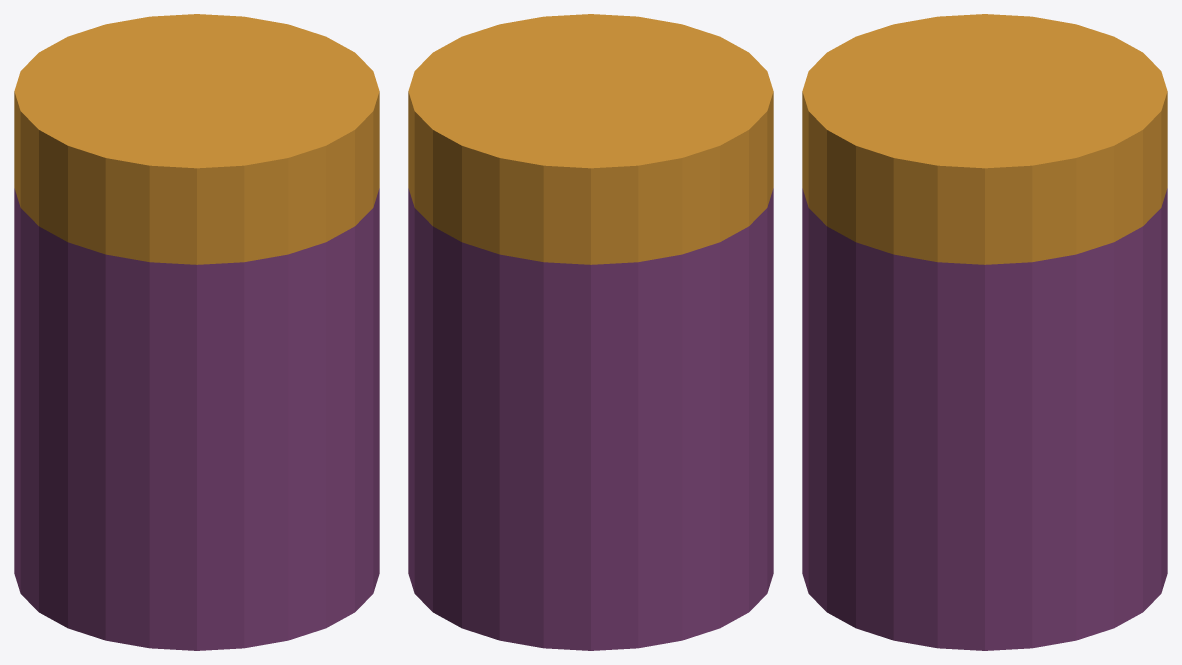
3 views of the same model, side by side, from view 1: azimuth 30°, elevation 25°; view 2: azimuth 150°, elevation 25°; view 3: azimuth 270°, elevation 25° (orthographic).
Visible parts, largest first — view 1: storage-content-body, storage-content-cap; view 2: storage-content-body, storage-content-cap; view 3: storage-content-body, storage-content-cap.
Boxes of the visible parts, <box> form: storage-content-body: <box>14,188,379,650</box>; storage-content-cap: <box>14,14,379,264</box>; storage-content-body: <box>408,188,773,650</box>; storage-content-cap: <box>408,14,773,264</box>; storage-content-body: <box>802,188,1167,650</box>; storage-content-cap: <box>802,14,1167,264</box>.
Size of the model in its own units: 0.024 by 0.035 by 0.024.
